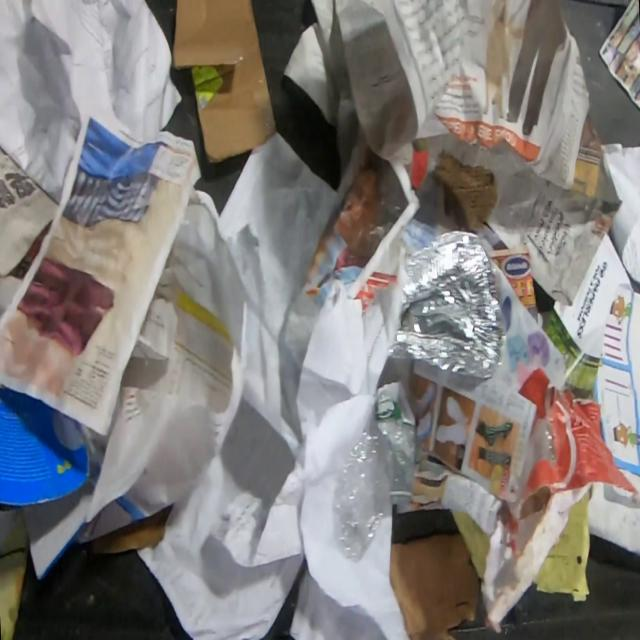cardboard: (172, 0, 277, 164), (390, 533, 480, 640), (430, 151, 498, 231), (86, 504, 174, 554)
metal: (388, 228, 508, 379)
rigid_plastic: (329, 391, 419, 564), (515, 416, 558, 497)
